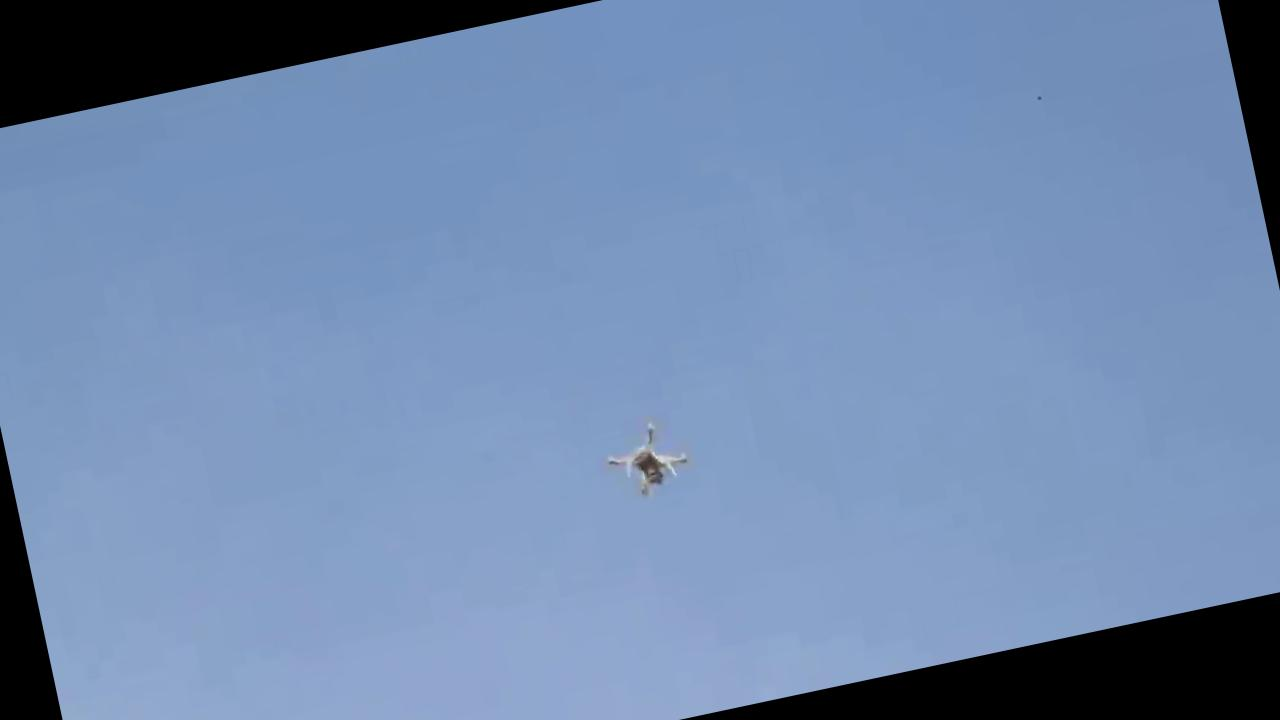drone: (587, 404, 707, 509)
